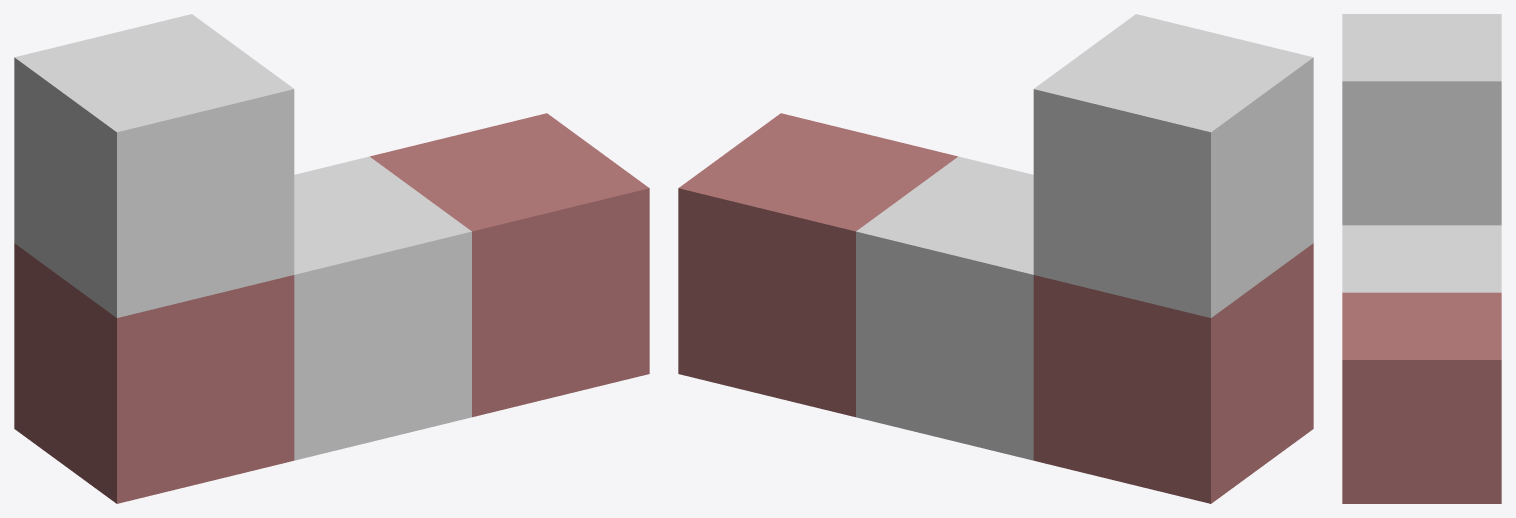
File: piece3.fbx
3 renders of one model, left to right at view 1: azimuth 30°, elevation 25°; view 2: azimuth 150°, elevation 25°; view 3: azimuth 270°, elevation 25°, orthographic. The views are drawn at different scales.
Parts seen in each view (by area): view 1: Shape_IndexedFaceSet.003; view 2: Shape_IndexedFaceSet.003; view 3: Shape_IndexedFaceSet.003.
Boxes of the visible parts, left/top/right/bottom form: Shape_IndexedFaceSet.003: left=14, top=14, right=649, bottom=503; Shape_IndexedFaceSet.003: left=678, top=14, right=1313, bottom=503; Shape_IndexedFaceSet.003: left=1342, top=14, right=1501, bottom=503.
Bounding box in the file's own units: 300 × 200 × 100.
